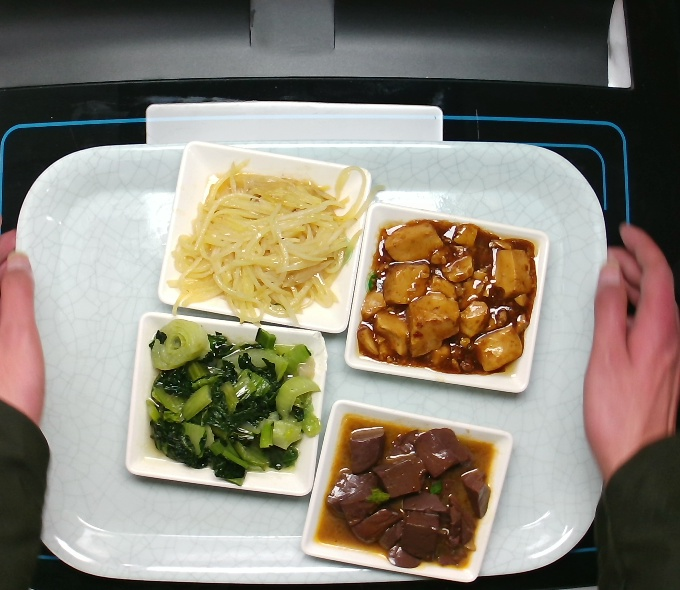wcq-MaPoDouFu: (359, 220, 525, 373)
wcq-NiuXue: (320, 419, 486, 566)
wcq-TuDouSi: (180, 159, 356, 317)
wcq-YouDongCai: (135, 321, 311, 479)
